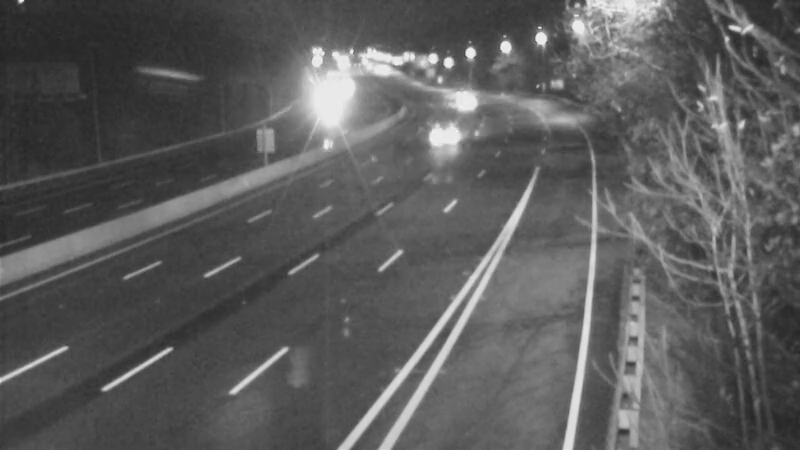vehicle: (432, 66, 482, 116), (443, 78, 493, 128), (421, 108, 471, 158), (301, 87, 351, 137)
